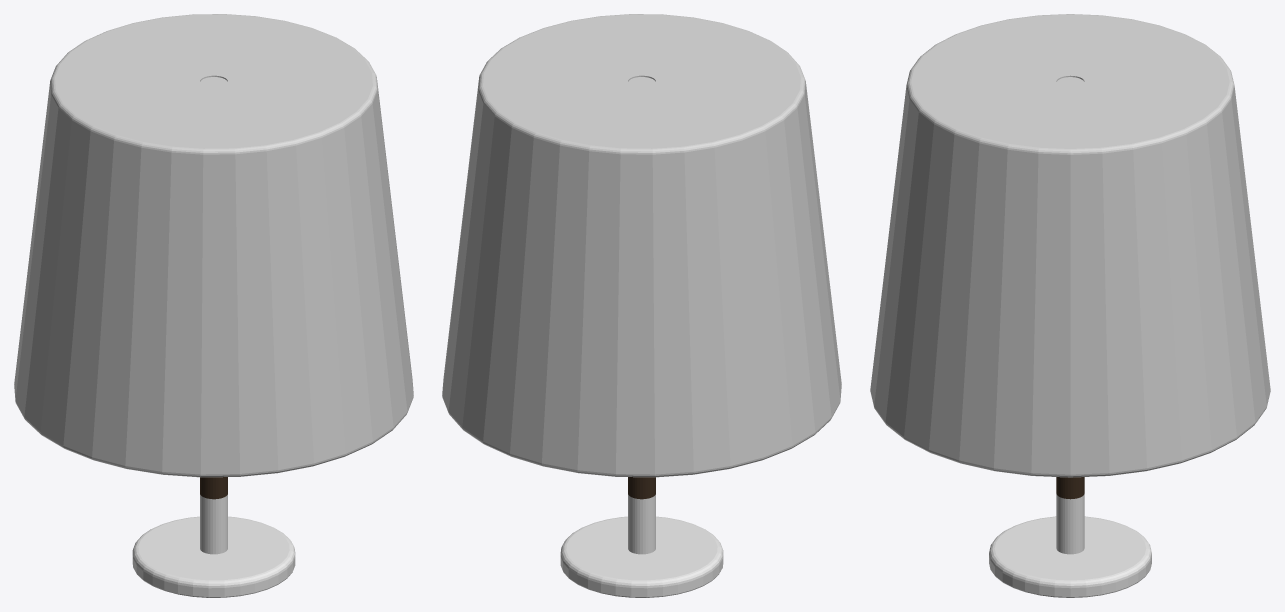
3 renders of one model, left to right at view 1: azimuth 30°, elevation 25°; view 2: azimuth 150°, elevation 25°; view 3: azimuth 270°, elevation 25°, orthographic.
Parts seen in each view (by area): view 1: lamp; view 2: lamp; view 3: lamp.
Part boxes in pixels (x1,y1,x2,y2): lamp: (14, 14, 413, 597); lamp: (442, 14, 841, 597); lamp: (870, 14, 1270, 597).
Bounding box in the file's own units: 0.1492 × 0.1984 × 0.1492.
Materials: 3 (1 with a texture image).
